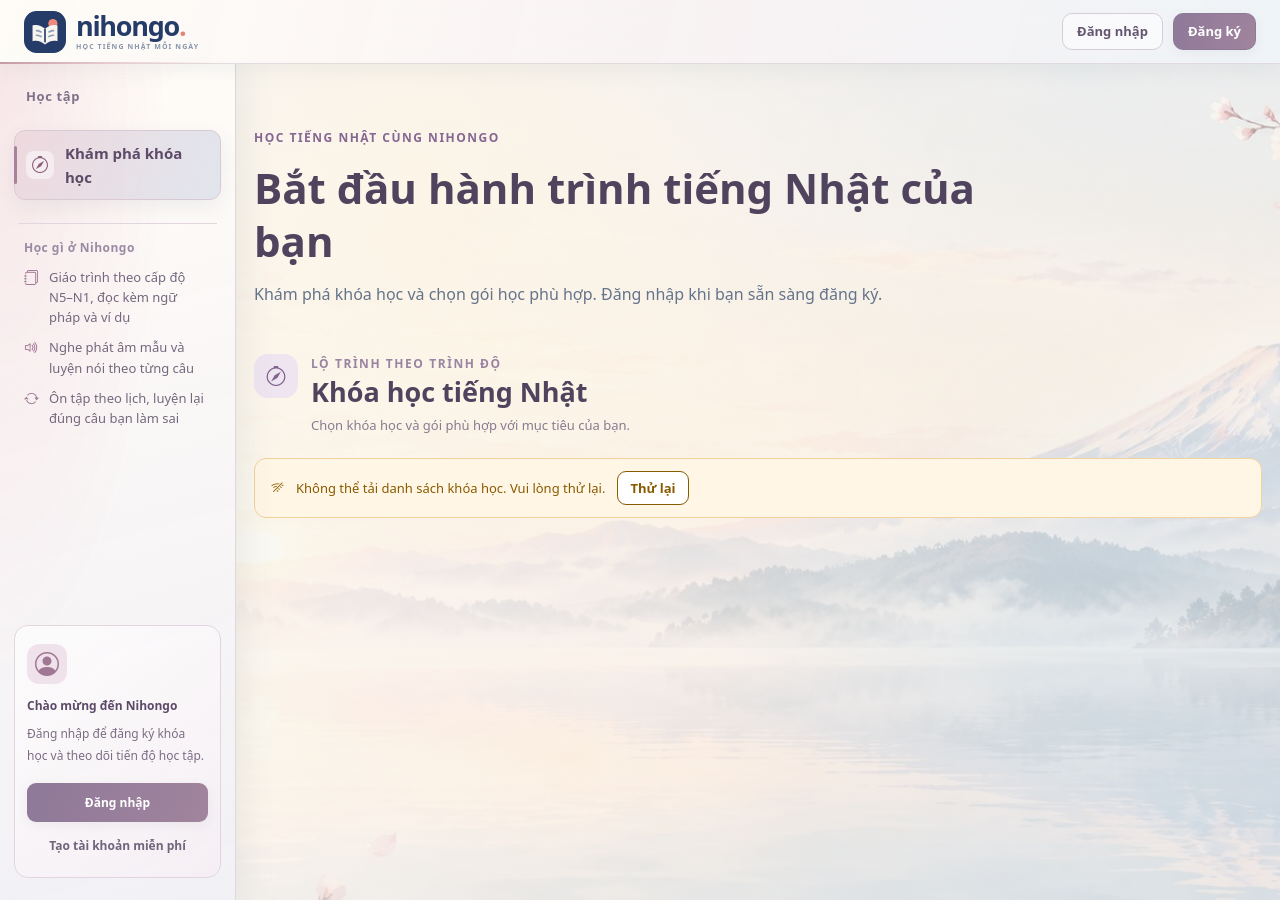
Test: shows a recoverable catalog error without redirecting to login
This screenshot has width=1280, height=900.
Check: the message "Không thể tải danh sách khóa học. Vui lòng thử lại. Thử lại" is shown, box [254,458,1262,518]
Step 1. Click the button "Thử lại" → (653, 488), box [617,471,688,505]
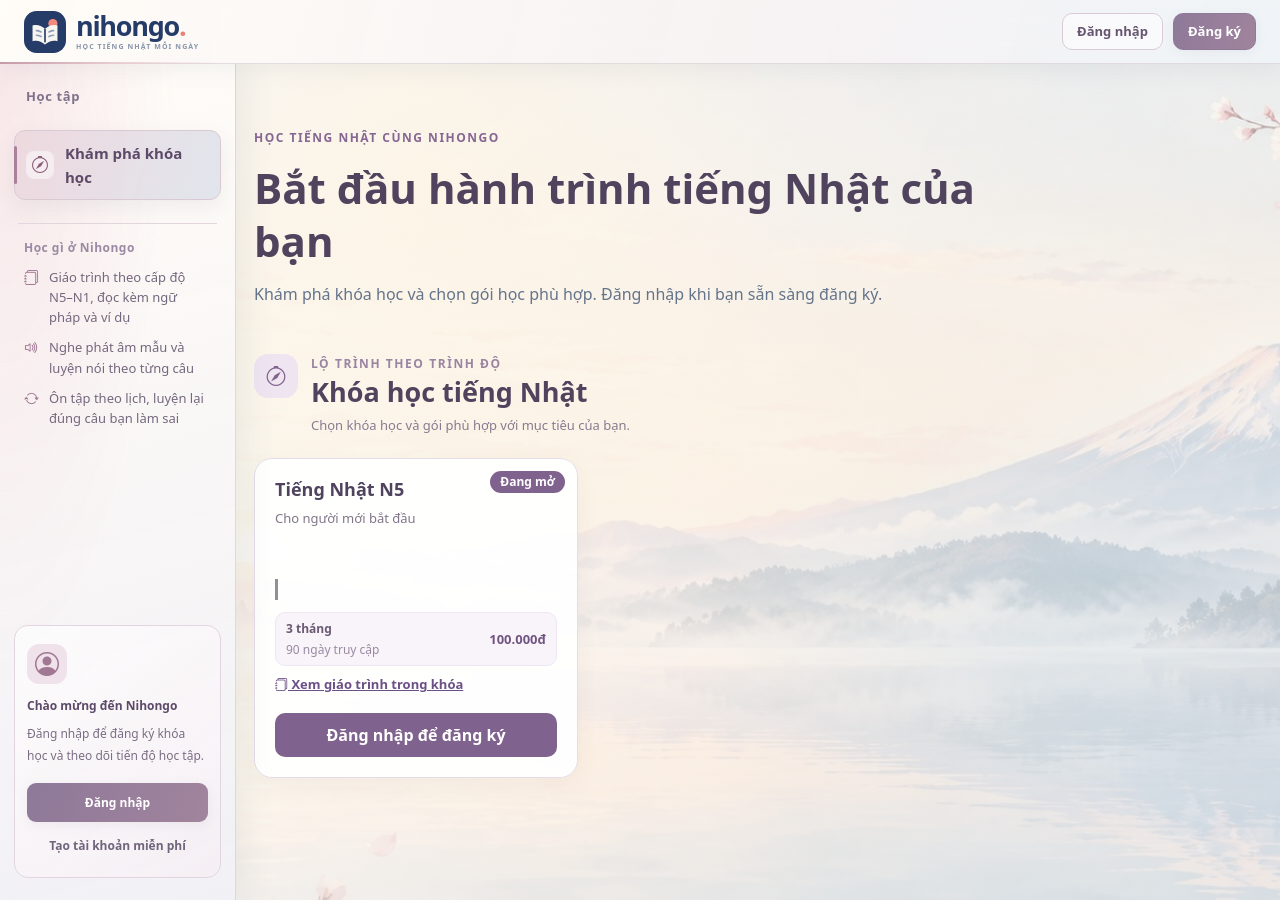
Check: the text "Tiếng Nhật N5" is shown, box [275,477,404,501]
